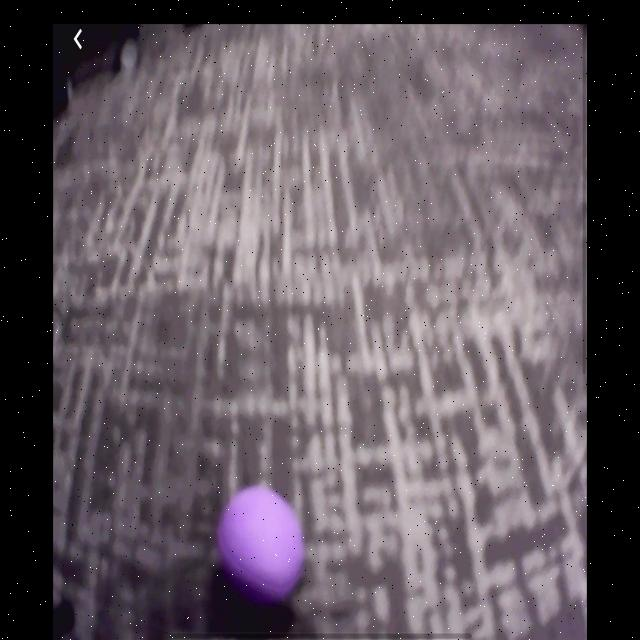ball: (217, 482, 306, 602)
